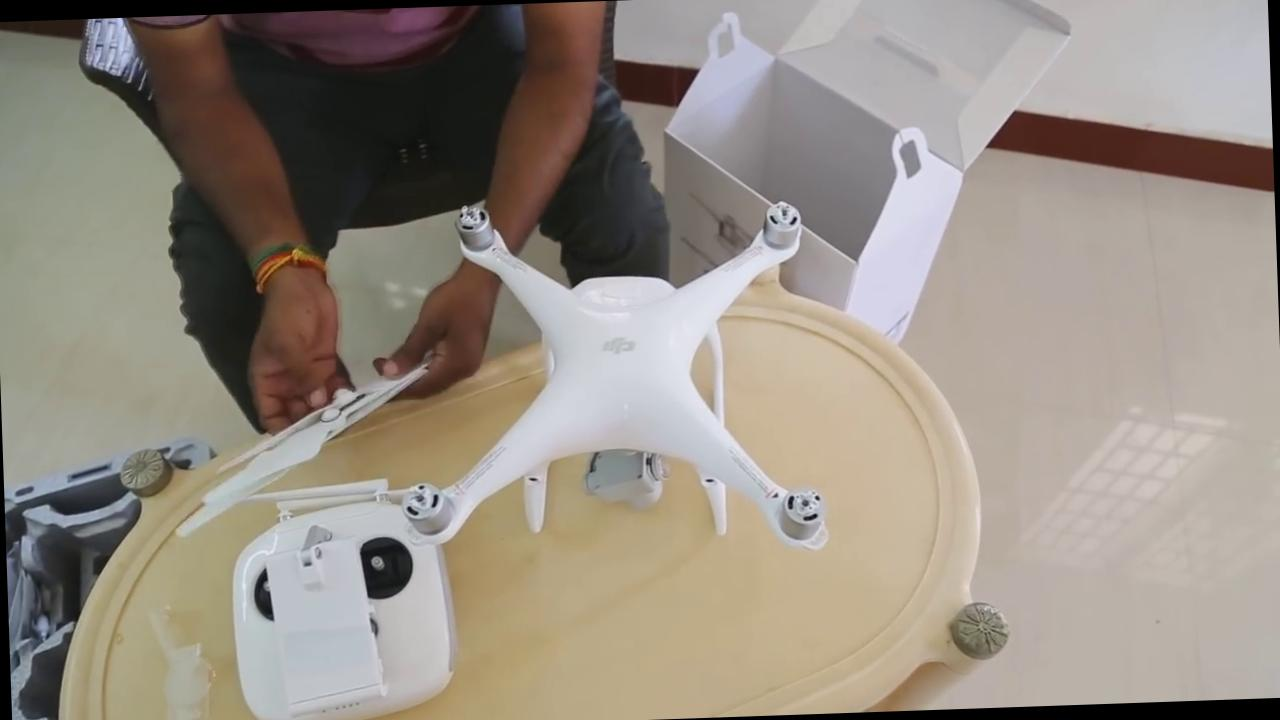drone: (381, 189, 855, 576)
